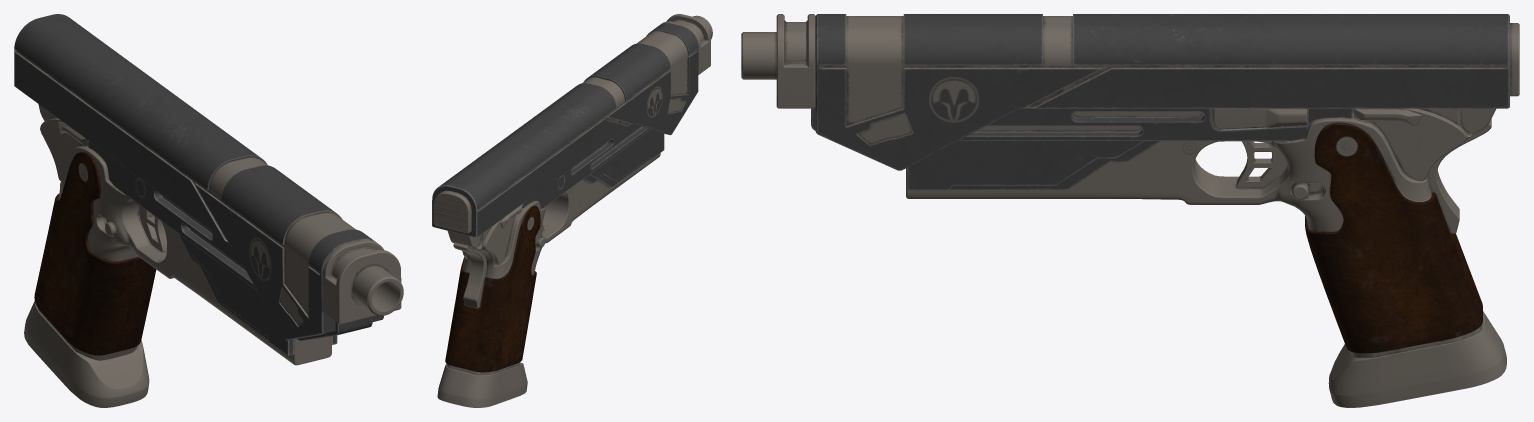
The model's file is bo katana blaster.fbx.
3 renders of one model, left to right at view 1: azimuth 30°, elevation 25°; view 2: azimuth 150°, elevation 25°; view 3: azimuth 270°, elevation 25°, orthographic. The views are drawn at different scales.
Parts seen in each view (by area): view 1: body.001, trigger.001; view 2: body.001; view 3: body.001, trigger.001.
Part boxes in pixels (x1,y1,x2,y2): body.001: (14,14,403,407); trigger.001: (139,205,166,252); body.001: (432,14,712,407); body.001: (741,14,1519,407); trigger.001: (1236,141,1287,188).
Bounding box in the file's own units: 2.57 × 11.56 × 21.85.
